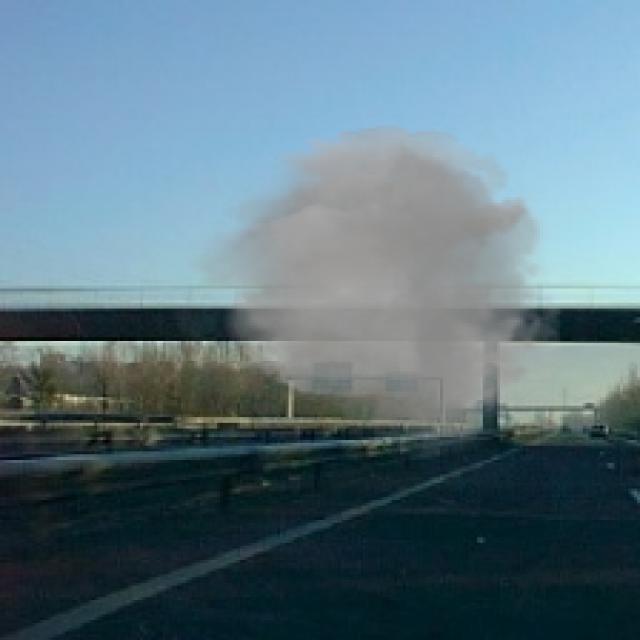smoke: (177, 117, 580, 463)
